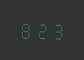eight: (18, 19, 32, 39)
three: (49, 20, 63, 40)
two: (34, 19, 48, 40)
